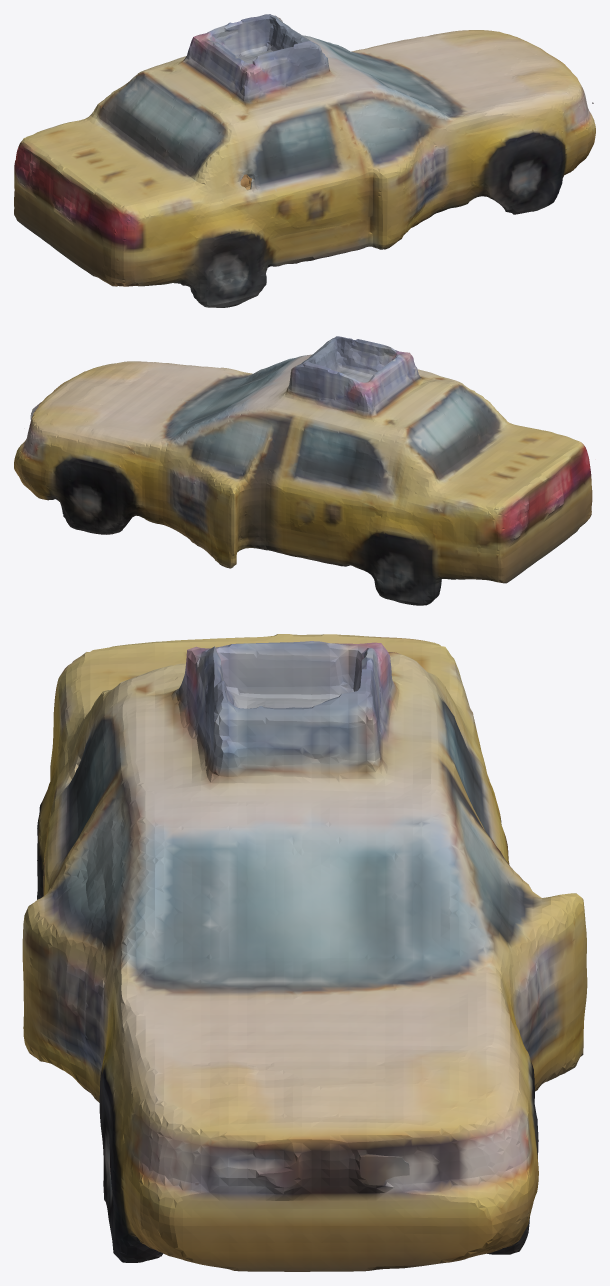
Rendered from full.glb.
3 renders of one model, top to bottom at view 1: azimuth 30°, elevation 25°; view 2: azimuth 150°, elevation 25°; view 3: azimuth 270°, elevation 25°, orthographic. The views are drawn at different scales.
Parts seen in each view (by area): view 1: world; view 2: world; view 3: world.
Part boxes in pixels (box(x1,y1,x2,y2)): world: box(14, 14, 595, 307); world: box(14, 336, 592, 605); world: box(22, 634, 587, 1271).
Bounding box in the file's own units: 2 × 0.7409 × 1.01.
